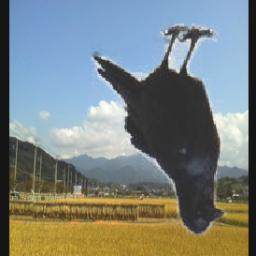Crow: (90, 25, 229, 238)
